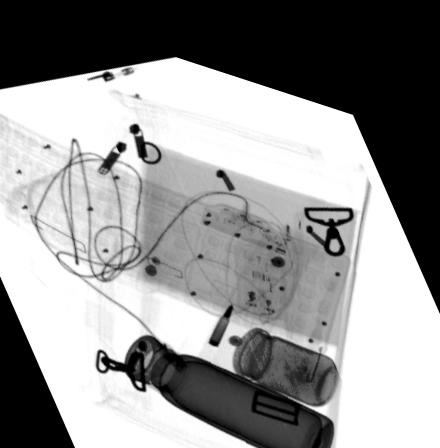Bullet: (206, 288, 233, 333)
